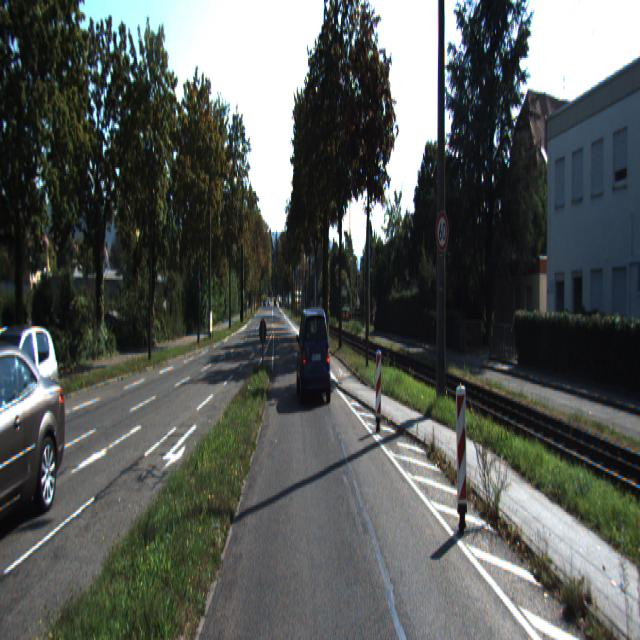Car: (0, 329, 76, 552), (0, 321, 65, 464), (296, 306, 332, 409)
